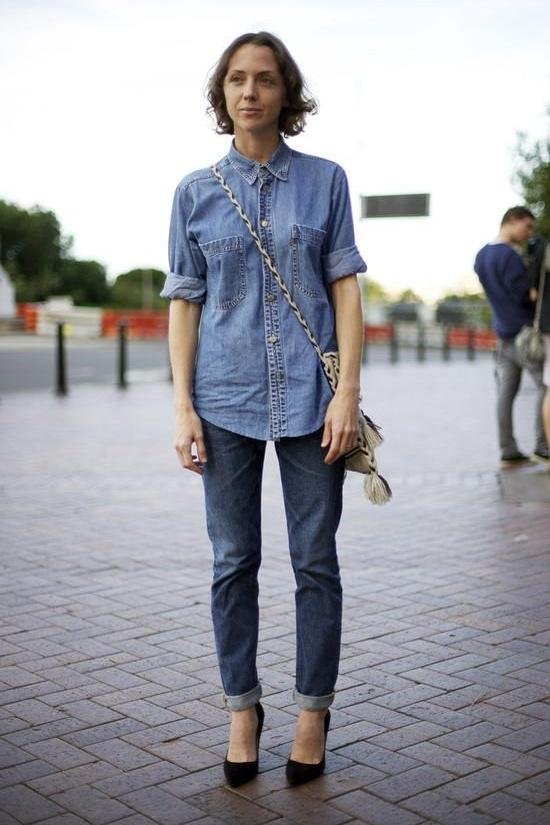pants: (201, 395, 344, 714)
shirt: (160, 136, 368, 442)
